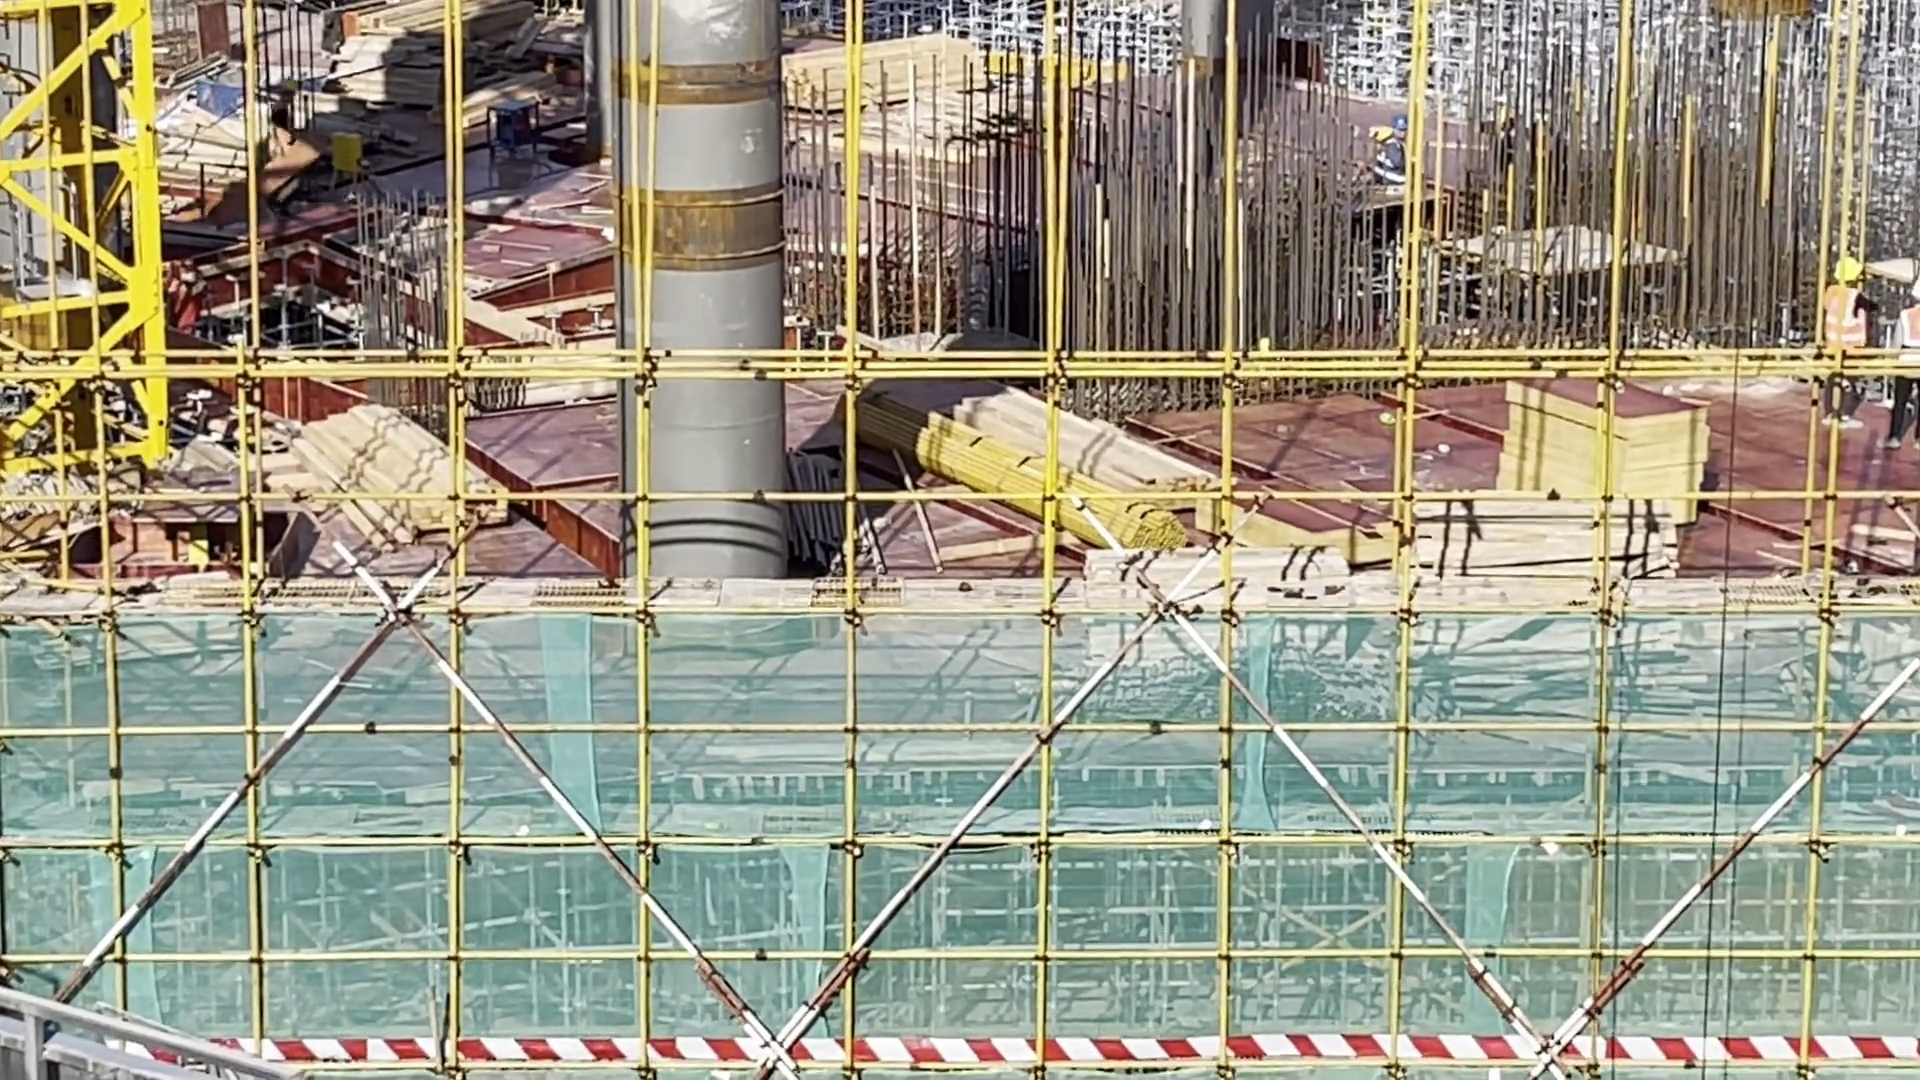board: (1506, 361, 1704, 530)
person: (1820, 243, 1867, 433)
vest: (1824, 284, 1864, 347)
wood: (921, 388, 1221, 543), (1421, 491, 1693, 584), (298, 408, 497, 533)
